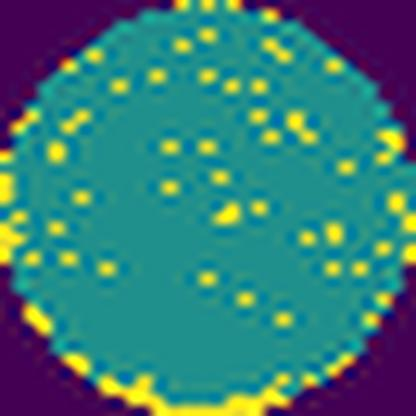Edge-Loc: (94, 368, 298, 415), (0, 221, 31, 272), (20, 303, 59, 339)
